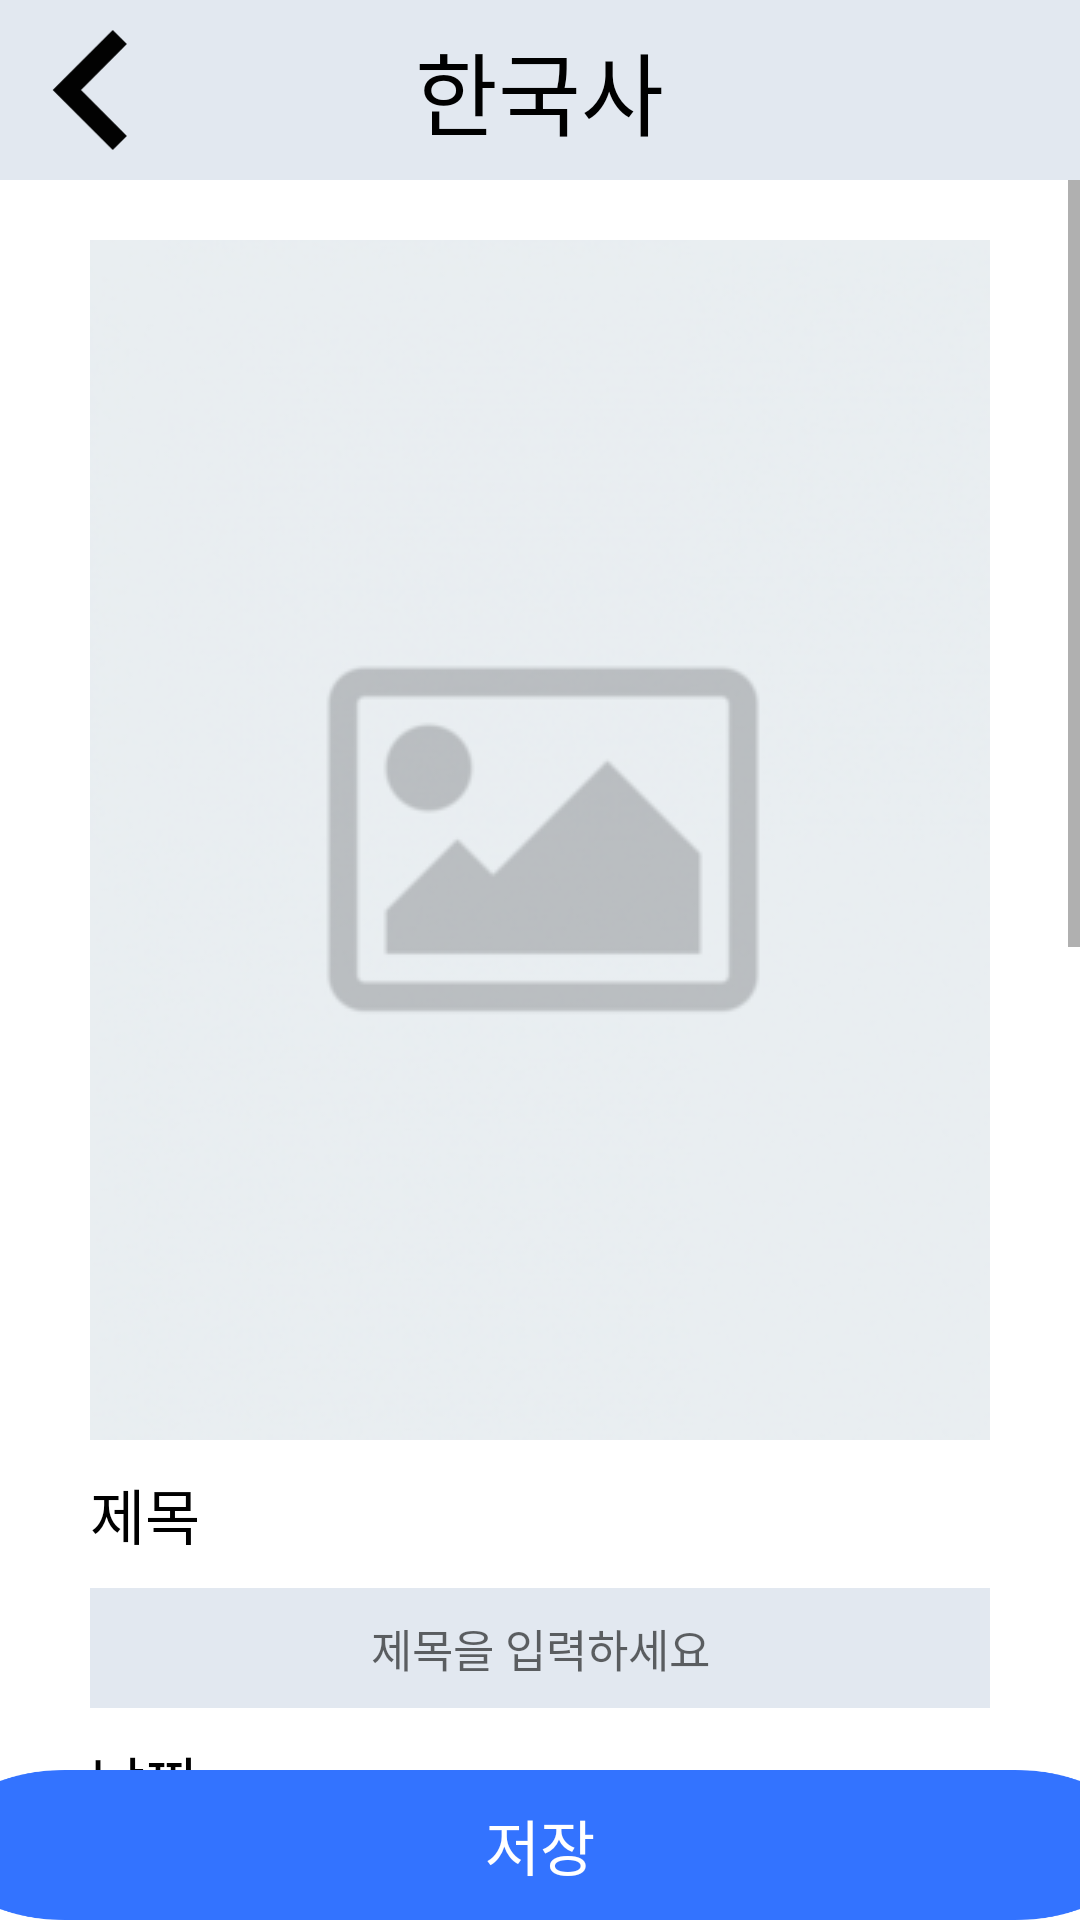

Named icons in this screenshot (1080×1920) and their centers, (x=x, y=y):
back: (x=90, y=90)
